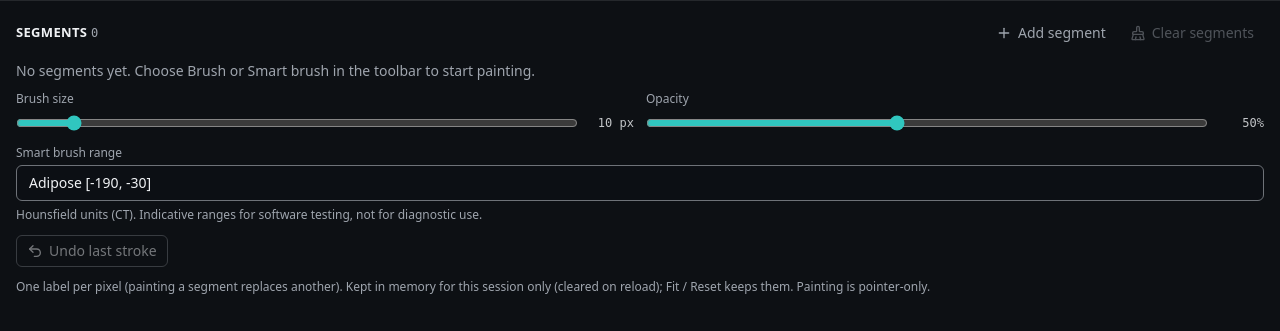
Test case: SegmentsSection › Escape in the name field restores the name it had when focused
Click the button "Add segment": (1051, 33) [986,17,1116,49]
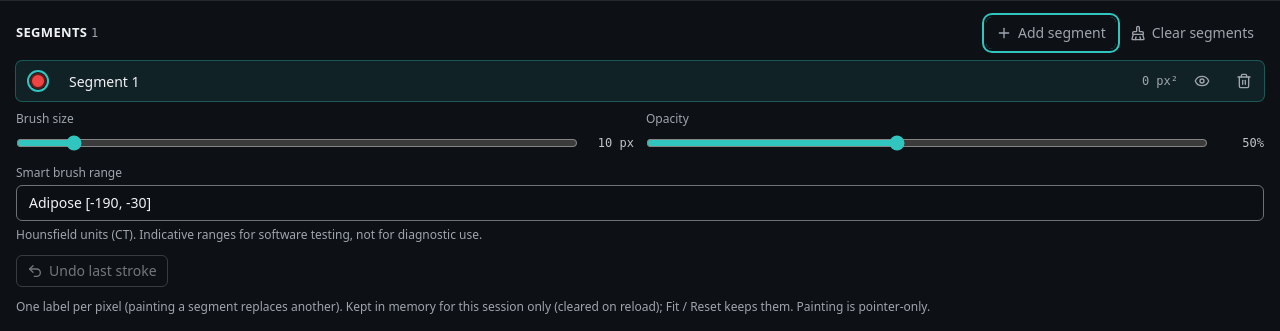
In the field named "Name of segment 1": (599, 81) [62,63,1136,99], type " edited"
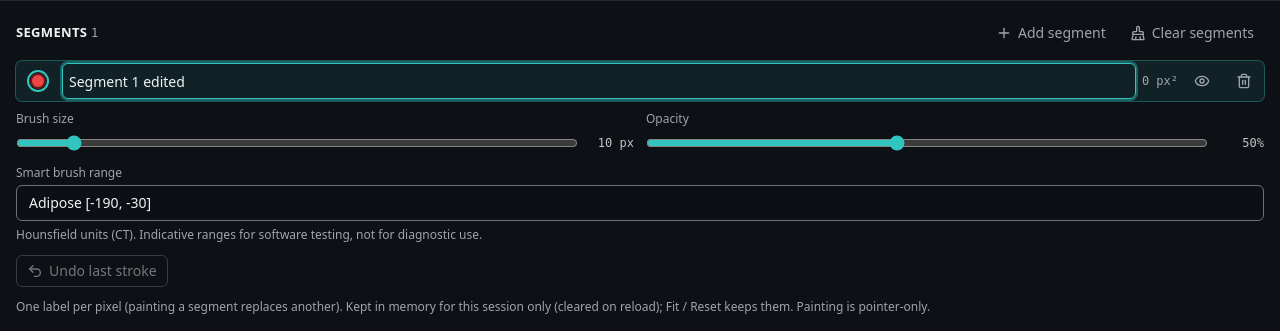
Press Escape
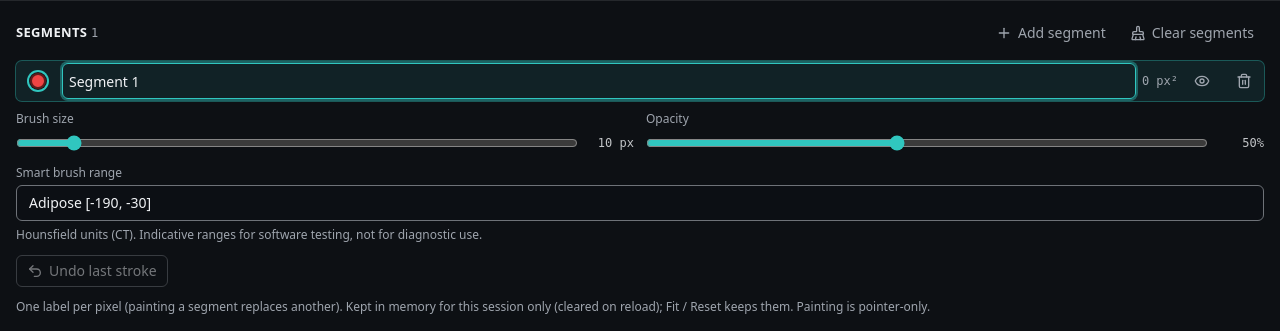
Expected: the field named "Name of segment 1" holds "Segment 1", [62,63,1136,99]
